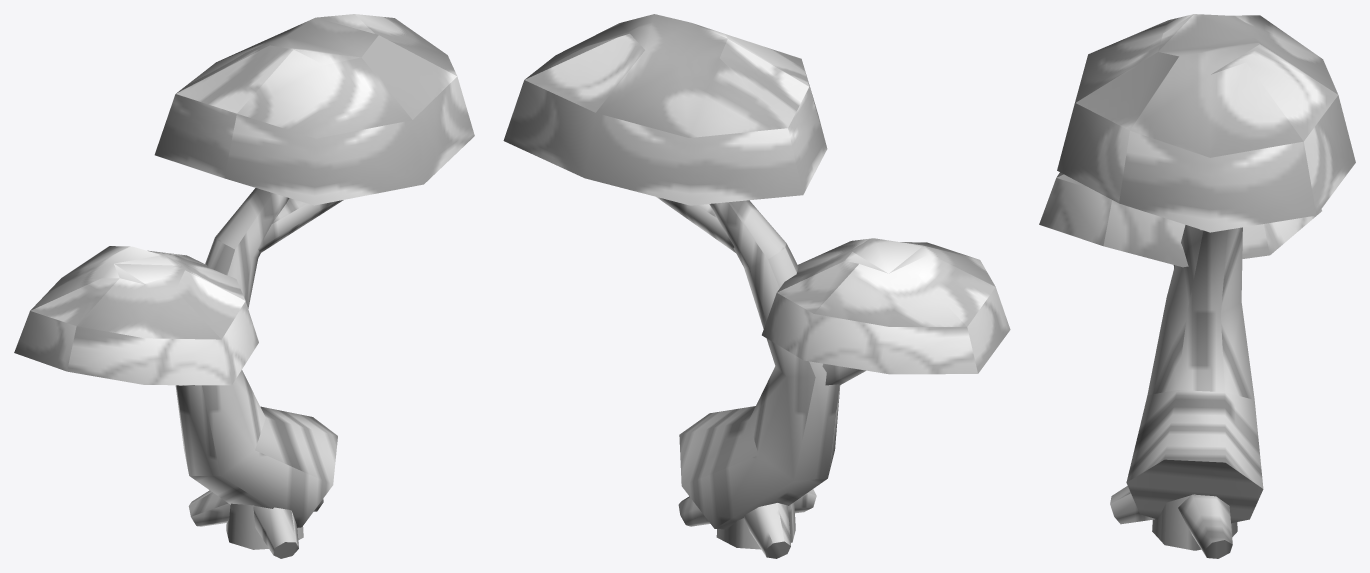
File: bonsai_b.obj
3 views of the same model, side by side, from view 1: azimuth 30°, elevation 25°; view 2: azimuth 150°, elevation 25°; view 3: azimuth 270°, elevation 25° (orthographic). The views are drawn at different scales.
Parts seen in each view (by area): view 1: source_component_004, source_component_003, source_component_000, source_component_007, source_component_002, source_component_008, source_component_006; view 2: source_component_004, source_component_003, source_component_000, source_component_006, source_component_002, source_component_008; view 3: source_component_004, source_component_000, source_component_003, source_component_005, source_component_008, source_component_007.
Boxes of the visible parts, x1=… form: source_component_004: x1=154, y1=14, x2=474, y2=205; source_component_003: x1=14, y1=246, x2=258, y2=385; source_component_000: x1=175, y1=188, x2=337, y2=527; source_component_007: x1=253, y1=506, x2=298, y2=558; source_component_002: x1=258, y1=198, x2=343, y2=252; source_component_008: x1=226, y1=503, x2=303, y2=549; source_component_006: x1=188, y1=490, x2=230, y2=526; source_component_004: x1=503, y1=14, x2=827, y2=205; source_component_003: x1=762, y1=238, x2=1010, y2=374; source_component_000: x1=679, y1=200, x2=840, y2=529; source_component_006: x1=744, y1=503, x2=790, y2=558; source_component_002: x1=656, y1=197, x2=735, y2=252; source_component_008: x1=716, y1=502, x2=795, y2=549; source_component_004: x1=1057, y1=14, x2=1355, y2=232; source_component_000: x1=1126, y1=225, x2=1263, y2=523; source_component_003: x1=1039, y1=172, x2=1321, y2=267; source_component_005: x1=1178, y1=494, x2=1232, y2=558; source_component_008: x1=1152, y1=494, x2=1237, y2=550; source_component_007: x1=1110, y1=486, x2=1154, y2=524.
Bounding box in the file's own units: 0.9261 × 0.9612 × 0.5178.
